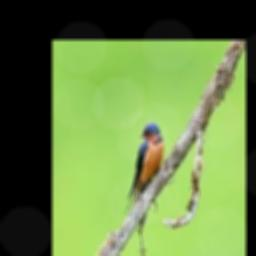Swallow: (125, 123, 164, 217)
